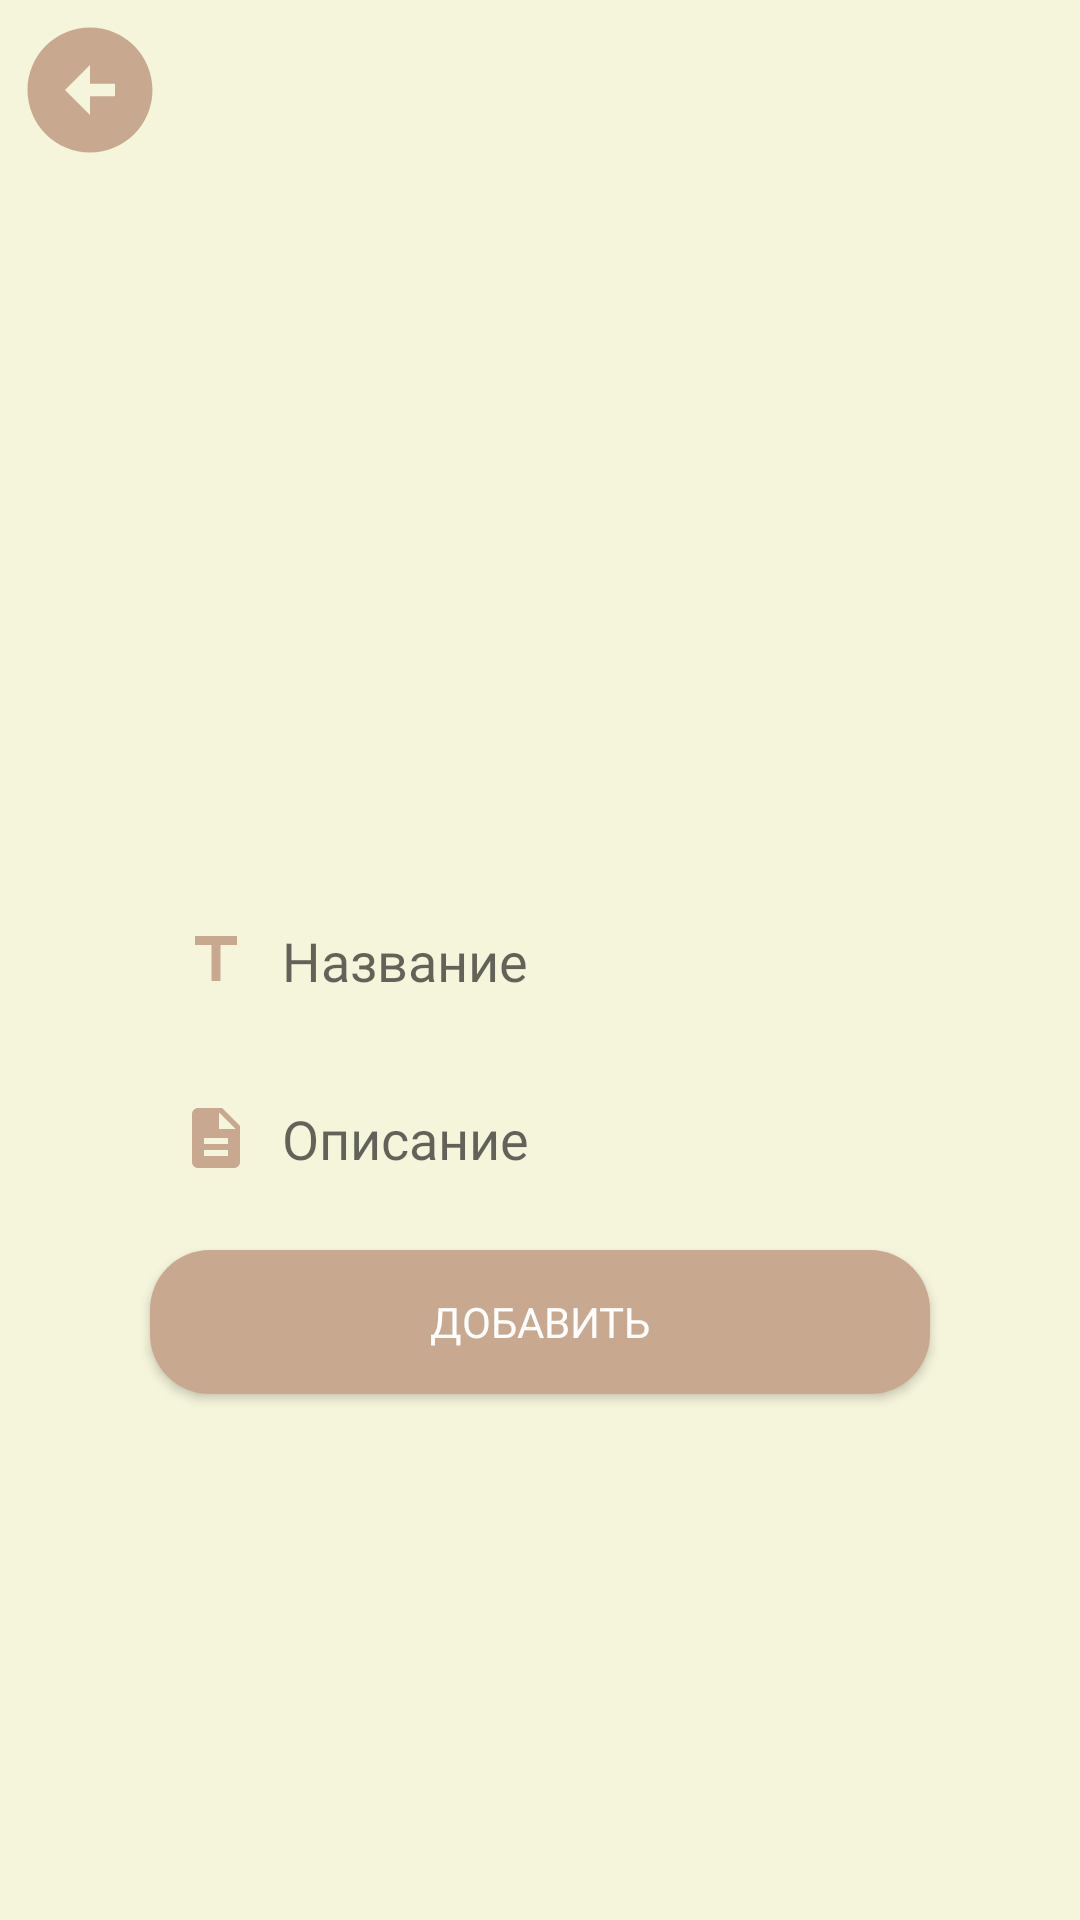

Icon bounding boxes for this 1080w x 1920h phone screenshot, format (x1, y1, x2, y2):
left: (27, 27, 153, 153)
